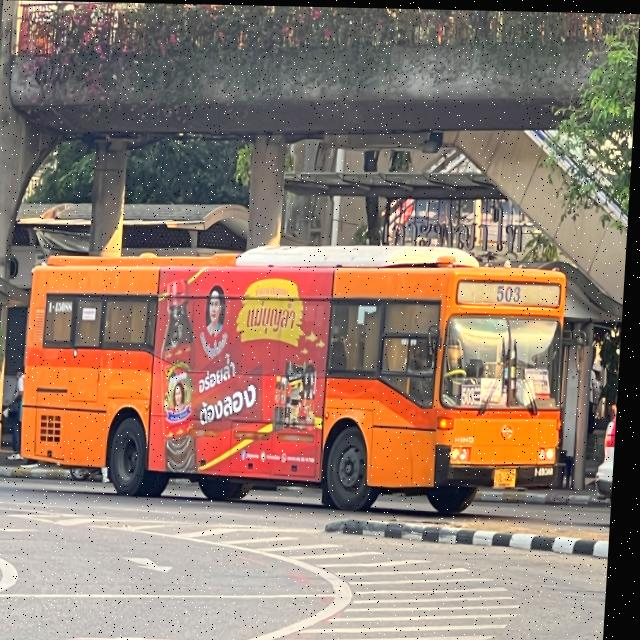BMTA-bus: (21, 238, 576, 515)
Bus-Line-Number: (495, 277, 529, 302)
Destination-Sign-Normal: (529, 364, 557, 396)
